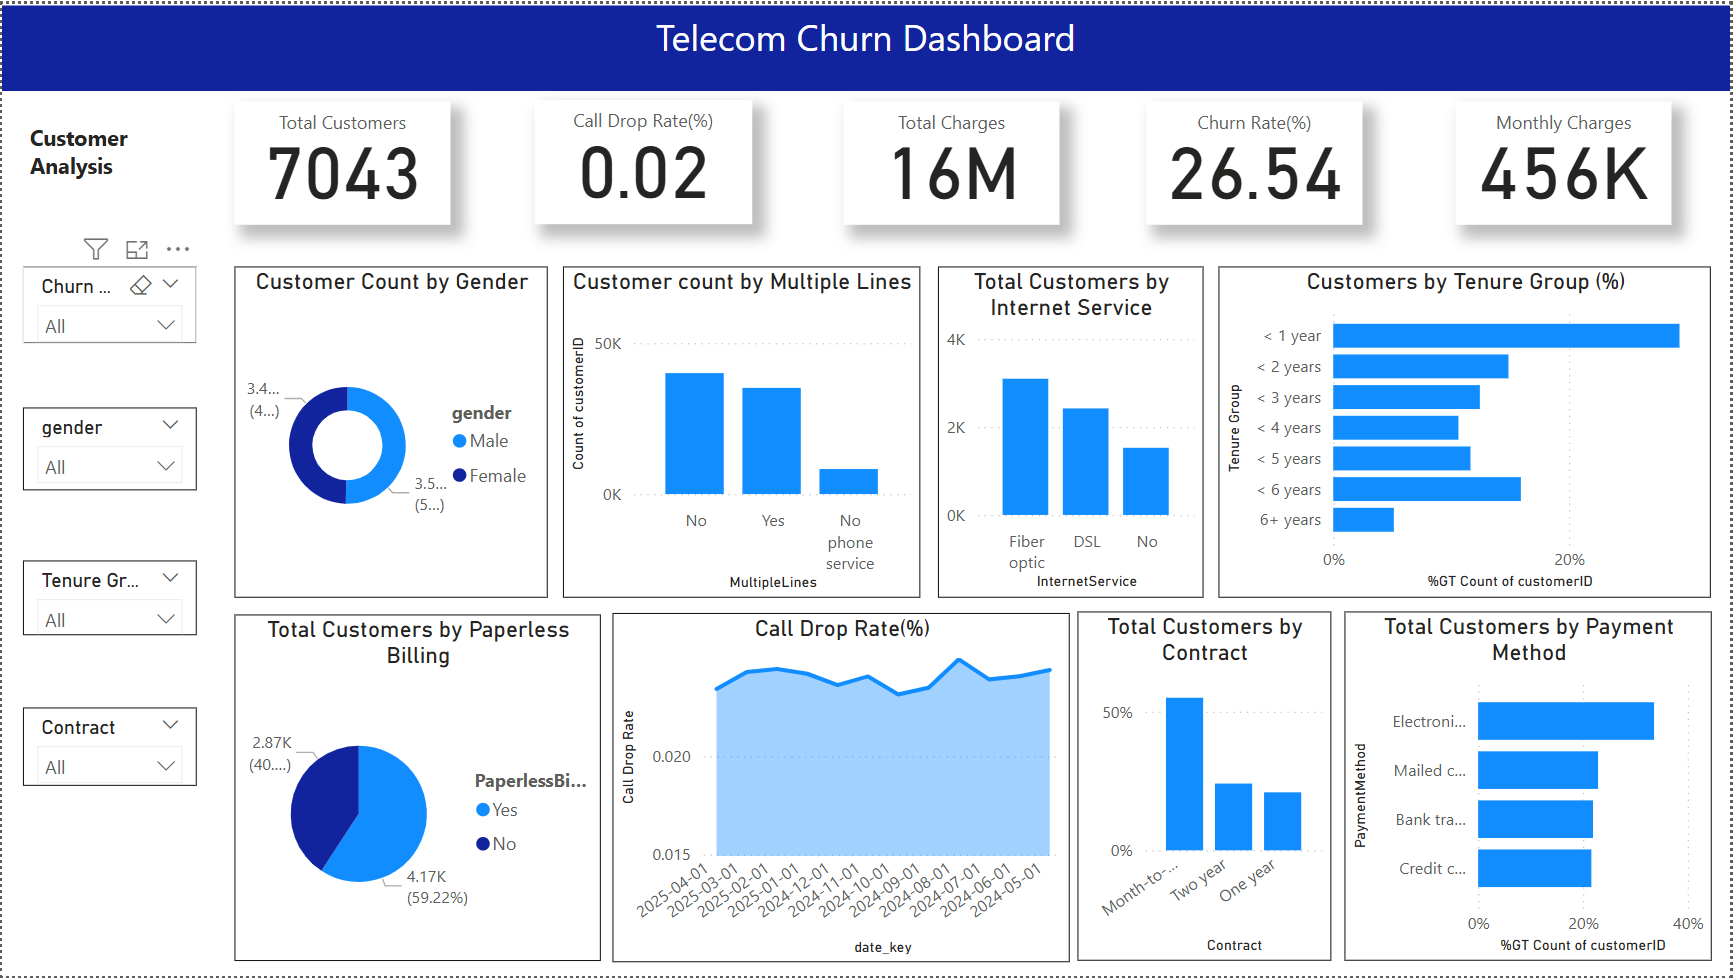

The page's visual inventory and layout, read from the dashboard file:
{"tool":"powerbi","page":{"name":"Customer Analysis","canvas":[1280,720],"ordinal":0},"visuals":[{"type":"textbox","box":[0,1.1,1279.8,63.1],"z":0},{"type":"stackedAreaChart","title":"Call Drop Rate(%)","fields":{"Category":["dim_date.date_key"],"Y":["fact_network_usage.Call Drop Rate"]},"box":[452.2,451.1,338.9,258.9],"z":1000},{"type":"donutChart","title":"Customer Count by Gender","fields":{"Y":["CountNonNull(dim_customer.customerID)"],"Category":["dim_customer.gender"]},"box":[172.2,194.4,232.2,245.6],"z":2000},{"type":"clusteredBarChart","title":"Customers by Tenure Group (%)","fields":{"Category":["dim_customer.Tenure Group"],"Y":["CountNonNull(dim_customer.customerID)"]},"box":[901.2,194.6,364.9,245],"z":3000},{"type":"clusteredBarChart","title":"Total Customers by Payment Method","fields":{"Category":["dim_customer.PaymentMethod"],"Y":["CountNonNull(dim_customer.customerID)"]},"box":[994.4,450,272.2,258.9],"z":4000},{"type":"card","fields":{"Values":["fact_network_usage.Call Drop Rate"]},"box":[394.4,71.1,161.1,92.2],"z":5000},{"type":"card","fields":{"Values":["dim_customer.Total Customers count"]},"box":[172.2,72.2,160,91.1],"z":7000},{"type":"columnChart","title":"Total Customers by Contract","fields":{"Category":["dim_customer.Contract"],"Y":["Divide(CountNonNull(dim_customer.customerID), ScopedEval(CountNonNull(dim_customer.customerID), []))"]},"box":[796.7,450,187.8,258.9],"z":8000},{"type":"pieChart","title":"Total Customers by Paperless Billing","fields":{"Category":["dim_customer.PaperlessBilling"],"Y":["CountNonNull(dim_customer.customerID)"]},"box":[172.2,452.2,271.1,256.7],"z":9000},{"type":"columnChart","title":"Customer count by Multiple Lines","fields":{"Category":["dim_customer.MultipleLines"],"Y":["CountNonNull(dim_complaint.customerID)"]},"box":[415.6,194.4,264.4,245.6],"z":10000},{"type":"clusteredColumnChart","title":"Total Customers by Internet Service","fields":{"Category":["dim_customer.InternetService"],"Y":["CountNonNull(dim_customer.customerID)"]},"box":[693,194.6,196.7,245],"z":11000},{"type":"card","fields":{"Values":["dim_customer.Churn Rate (%)"]},"box":[847.8,72.2,160,91.1],"z":12000},{"type":"slicer","fields":{"Values":["dim_customer.Churn Flag"]},"box":[15.6,194.4,128.9,56.7],"z":13000},{"type":"slicer","fields":{"Values":["dim_customer.gender"]},"box":[15.6,298.9,128.9,61.1],"z":14000},{"type":"slicer","fields":{"Values":["dim_customer.Tenure Group"]},"box":[15.6,412.2,128.9,55.6],"z":15000},{"type":"slicer","fields":{"Values":["dim_customer.Contract"]},"box":[15.6,521.1,128.9,57.8],"z":16000},{"type":"card","fields":{"Values":["Sum(dim_customer.MonthlyCharges)"]},"box":[1076.7,72.2,160,91.1],"z":17000},{"type":"textbox","box":[15.6,82.2,95.6,65.6],"z":18000},{"type":"card","fields":{"Values":["Sum(dim_customer.TotalCharges)"]},"box":[623.3,72.2,160,91.1],"z":18001}]}

Visuals, with their boxes in screenshot pixels (x1, y1, x2, y2), scaled from the page's 1280x720 canvas onto the 1733x978 screenshot:
textbox: select_region(0, 1, 1732, 87)
"Call Drop Rate(%)" stackedAreaChart: select_region(612, 613, 1071, 964)
"Customer Count by Gender" donutChart: select_region(233, 264, 548, 598)
"Customers by Tenure Group (%)" clusteredBarChart: select_region(1220, 264, 1714, 597)
"Total Customers by Payment Method" clusteredBarChart: select_region(1346, 611, 1715, 963)
card - fact_network_usage.Call Drop Rate: select_region(534, 97, 752, 222)
card - dim_customer.Total Customers count: select_region(233, 98, 450, 222)
"Total Customers by Contract" columnChart: select_region(1079, 611, 1333, 963)
"Total Customers by Paperless Billing" pieChart: select_region(233, 614, 600, 963)
"Customer count by Multiple Lines" columnChart: select_region(563, 264, 921, 598)
"Total Customers by Internet Service" clusteredColumnChart: select_region(938, 264, 1205, 597)
card - dim_customer.Churn Rate (%): select_region(1148, 98, 1364, 222)
slicer - dim_customer.Churn Flag: select_region(21, 264, 196, 341)
slicer - dim_customer.gender: select_region(21, 406, 196, 489)
slicer - dim_customer.Tenure Group: select_region(21, 560, 196, 635)
slicer - dim_customer.Contract: select_region(21, 708, 196, 786)
card - Sum(dim_customer.MonthlyCharges): select_region(1458, 98, 1674, 222)
textbox: select_region(21, 112, 151, 201)
card - Sum(dim_customer.TotalCharges): select_region(844, 98, 1061, 222)
